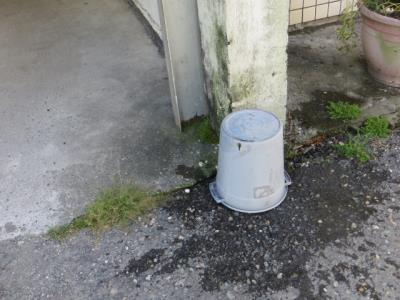bucket: (209, 107, 289, 212)
